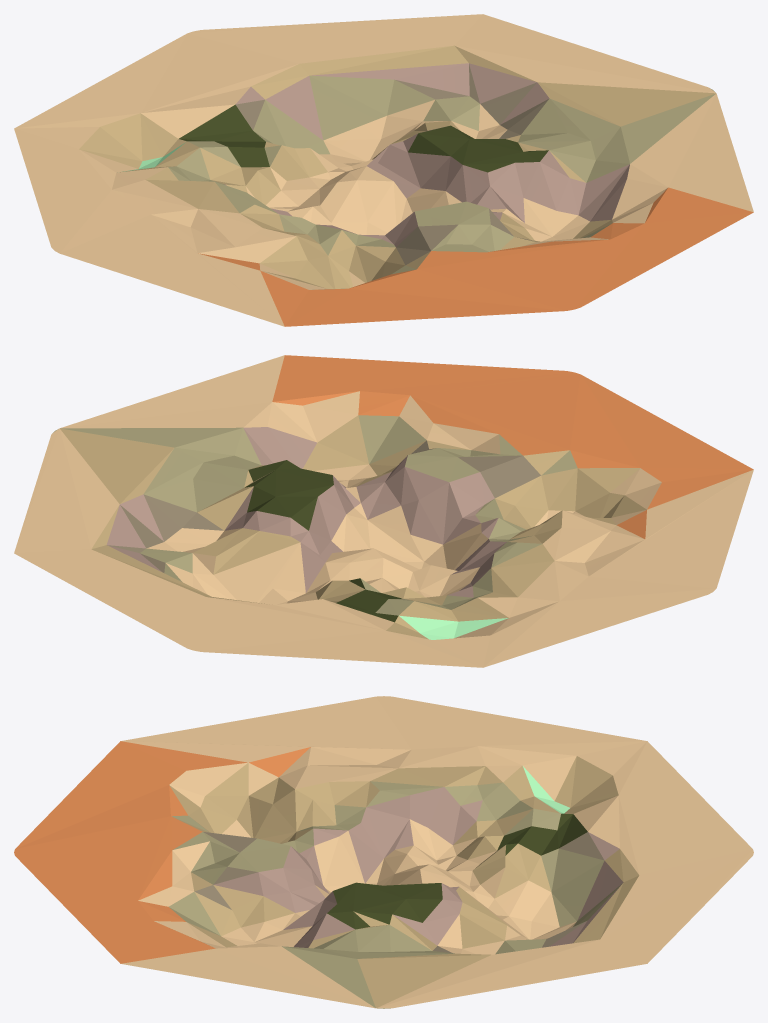
Rendered from LandscapeCol.fbx.
The picture shows the model from 3 angles, top to bottom: view 1: azimuth 30°, elevation 25°; view 2: azimuth 150°, elevation 25°; view 3: azimuth 270°, elevation 25°; orthographic projection. The views are drawn at different scales.
Parts seen in each view (by area): view 1: MainLandHD.001; view 2: MainLandHD.001; view 3: MainLandHD.001.
Boxes of the visible parts, left/top/right/bottom form: MainLandHD.001: left=14, top=14, right=753, bottom=326; MainLandHD.001: left=14, top=355, right=753, bottom=667; MainLandHD.001: left=14, top=696, right=753, bottom=1008.
Bounding box in the file's own units: 2117220 × 197076 × 2117219.
